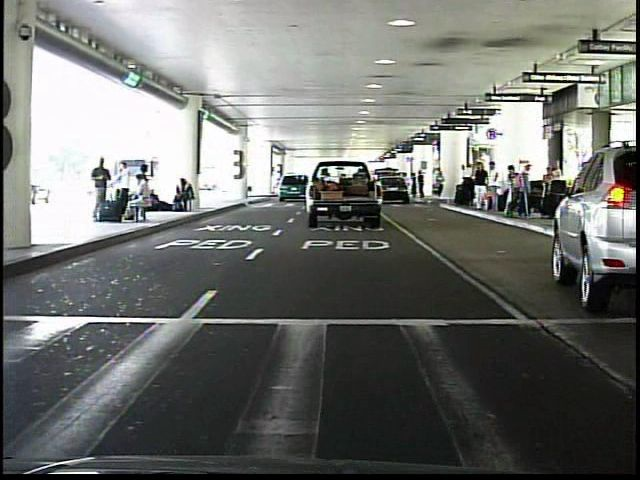person: (93, 156, 117, 228), (469, 160, 490, 217), (455, 161, 474, 210), (486, 160, 502, 216), (434, 166, 450, 206), (408, 170, 423, 202), (418, 170, 429, 203)
